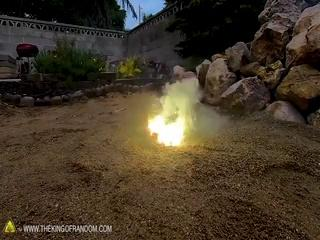Fire: (142, 110, 191, 146)
